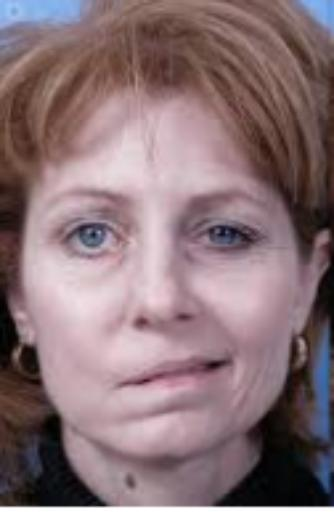left_eye: (188, 222, 260, 251)
left_lip_corner: (218, 352, 239, 374)
right_eye: (61, 219, 126, 260)
right_lip_corner: (97, 375, 143, 392)
